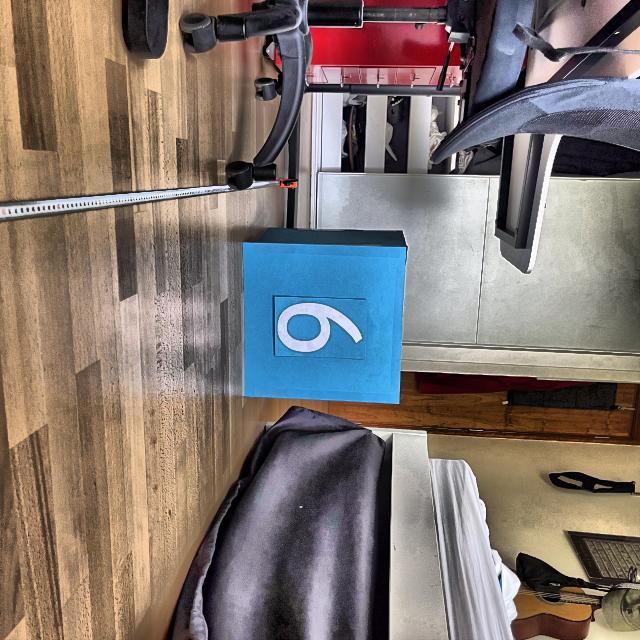blue box: (242, 224, 409, 406)
six: (276, 300, 366, 356)
